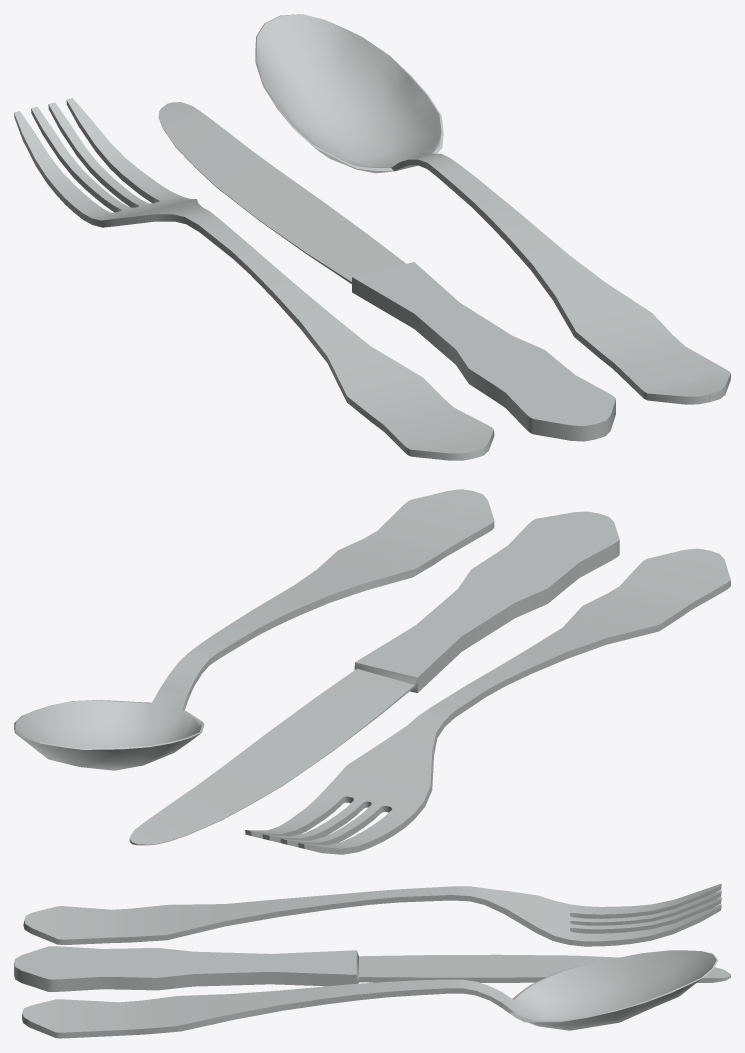
Rendered from cutlery-set.glb.
3 renders of one model, top to bottom at view 1: azimuth 30°, elevation 25°; view 2: azimuth 150°, elevation 25°; view 3: azimuth 270°, elevation 25°, orthographic. The views are drawn at different scales.
Parts seen in each view (by area): view 1: Spoon002, Knife001, Fork002; view 2: Knife001, Spoon002, Fork002; view 3: Spoon002, Fork002, Knife001.
Part boxes in pixels (x1,y1,x2,y2): Spoon002: [255, 14, 730, 404]; Knife001: [158, 102, 615, 441]; Fork002: [14, 98, 494, 460]; Knife001: [129, 511, 619, 845]; Spoon002: [14, 489, 494, 770]; Fork002: [245, 548, 730, 854]; Spoon002: [22, 950, 718, 1038]; Fork002: [23, 883, 721, 946]; Knife001: [14, 946, 730, 991].
Bounding box in the file's own units: 0.1147 × 0.0243 × 0.2526.
Materials: 3 (3 with a texture image).
